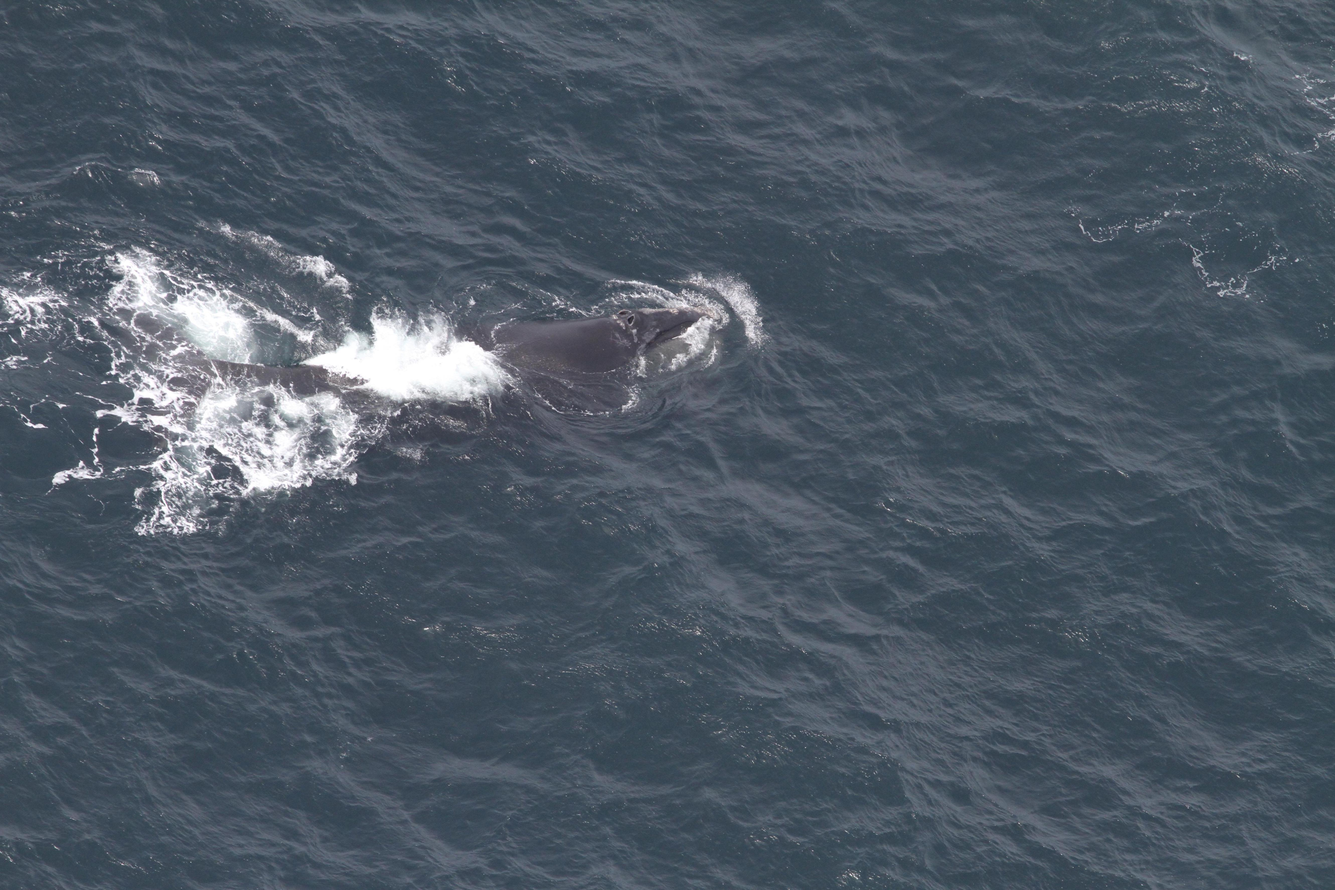whale: (66, 295, 737, 489)
